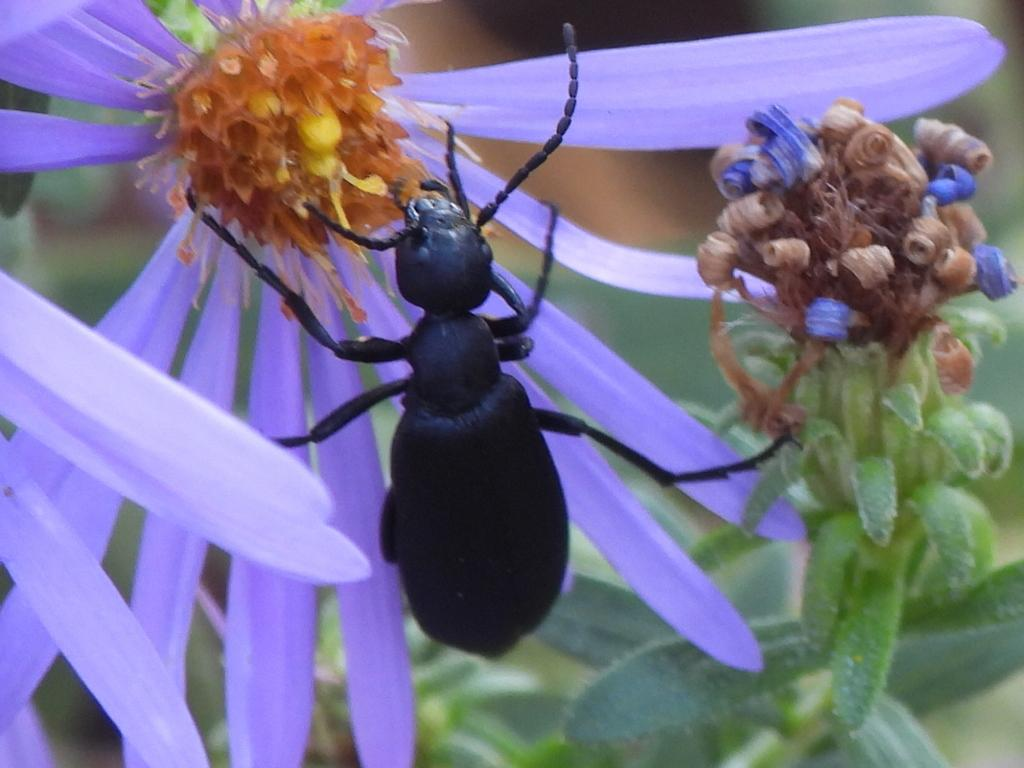blister_beetle: (92, 0, 840, 754)
